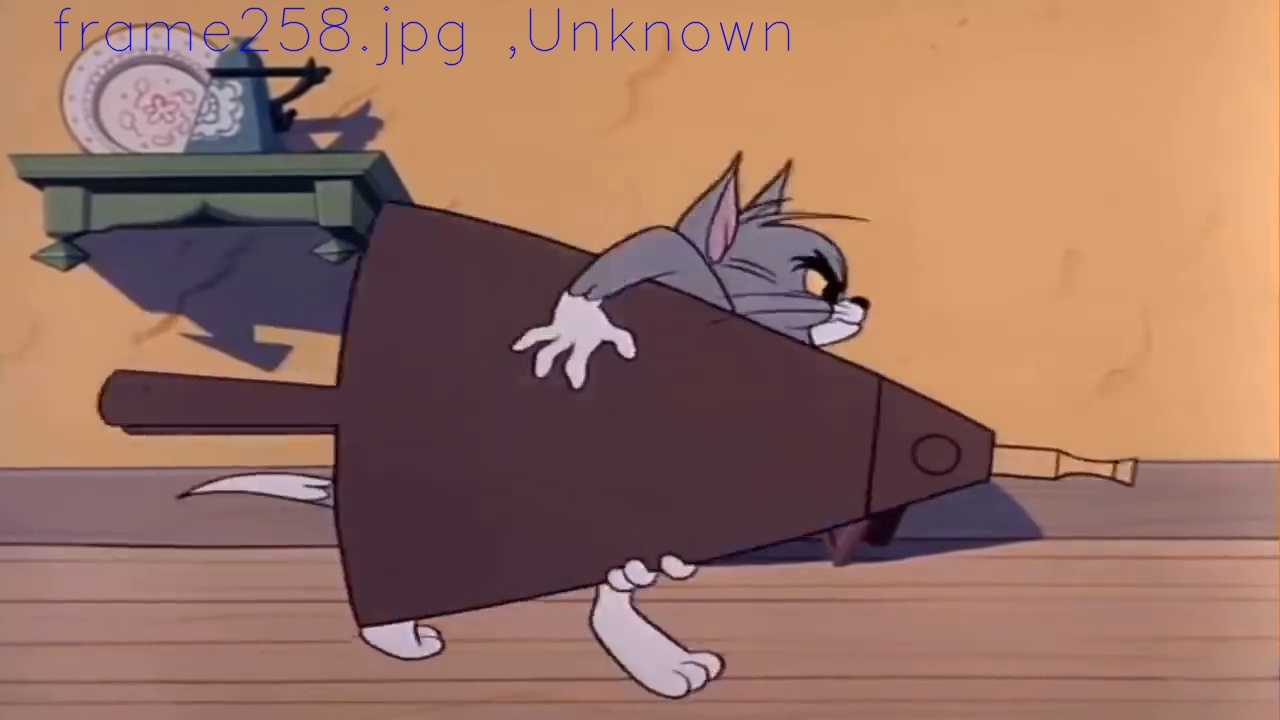angry: (790, 244, 870, 351)
